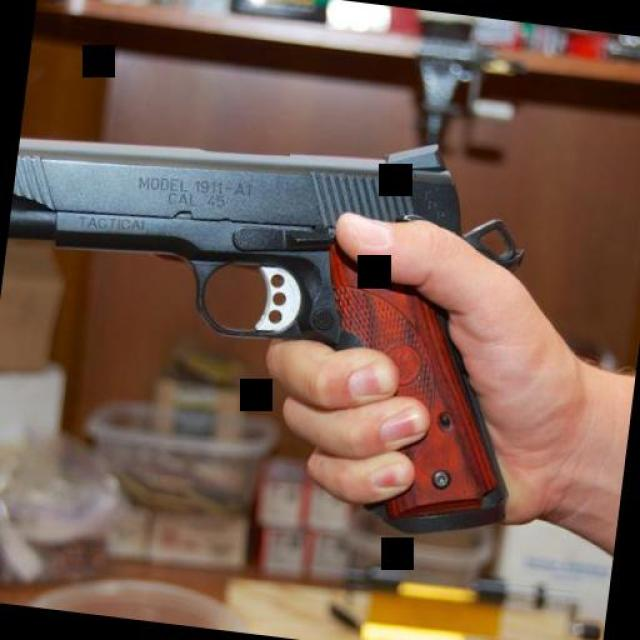gun: (0, 90, 551, 534)
